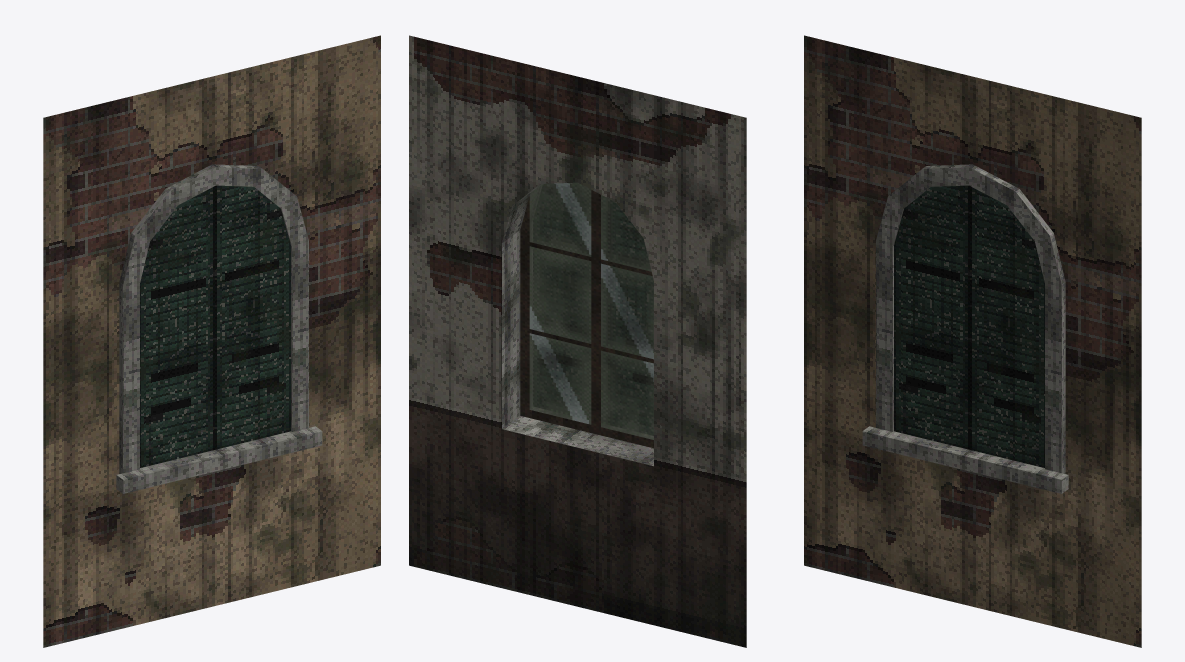
Rendered from ext_window_arch_shut.gltf.
The picture shows the model from 3 angles, left to right: view 1: azimuth 30°, elevation 25°; view 2: azimuth 150°, elevation 25°; view 3: azimuth 330°, elevation 25°; orthographic projection.
Parts seen in each view (by area): view 1: ext_window_arch_shut; view 2: ext_window_arch_shut; view 3: ext_window_arch_shut.
Boxes of the visible parts, x1,y1,x2,y2 form: ext_window_arch_shut: (43,35,380,647); ext_window_arch_shut: (409,35,746,647); ext_window_arch_shut: (804,35,1141,647).
Size of what is drawn, in the model's own units: 2 by 3 by 0.41.
5 materials, 5 textured.
